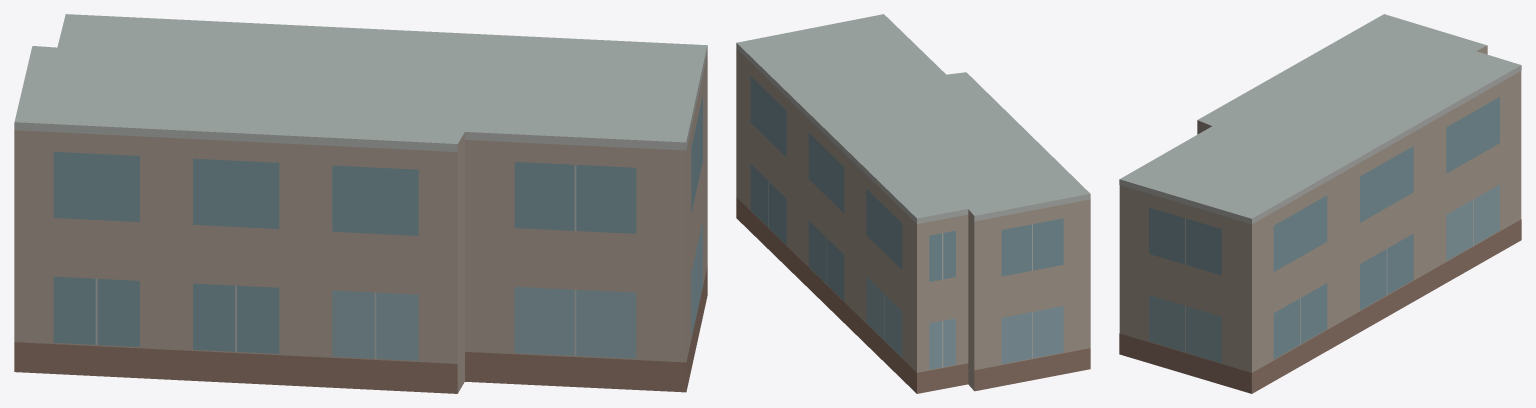
Rendered from survey-upis-32960132.glb.
3 renders of one model, left to right at view 1: azimuth 30°, elevation 25°; view 2: azimuth 150°, elevation 25°; view 3: azimuth 270°, elevation 25°, orthographic. The views are drawn at different scales.
Parts seen in each view (by area): view 1: survey-upis-32960132.tmp; view 2: survey-upis-32960132.tmp; view 3: survey-upis-32960132.tmp.
Part boxes in pixels (bbox=[...]): survey-upis-32960132.tmp: bbox=[14, 14, 707, 393]; survey-upis-32960132.tmp: bbox=[736, 14, 1090, 393]; survey-upis-32960132.tmp: bbox=[1119, 14, 1521, 393].
Bounding box in the file's own units: 19.07 × 7.6 × 15.82.
